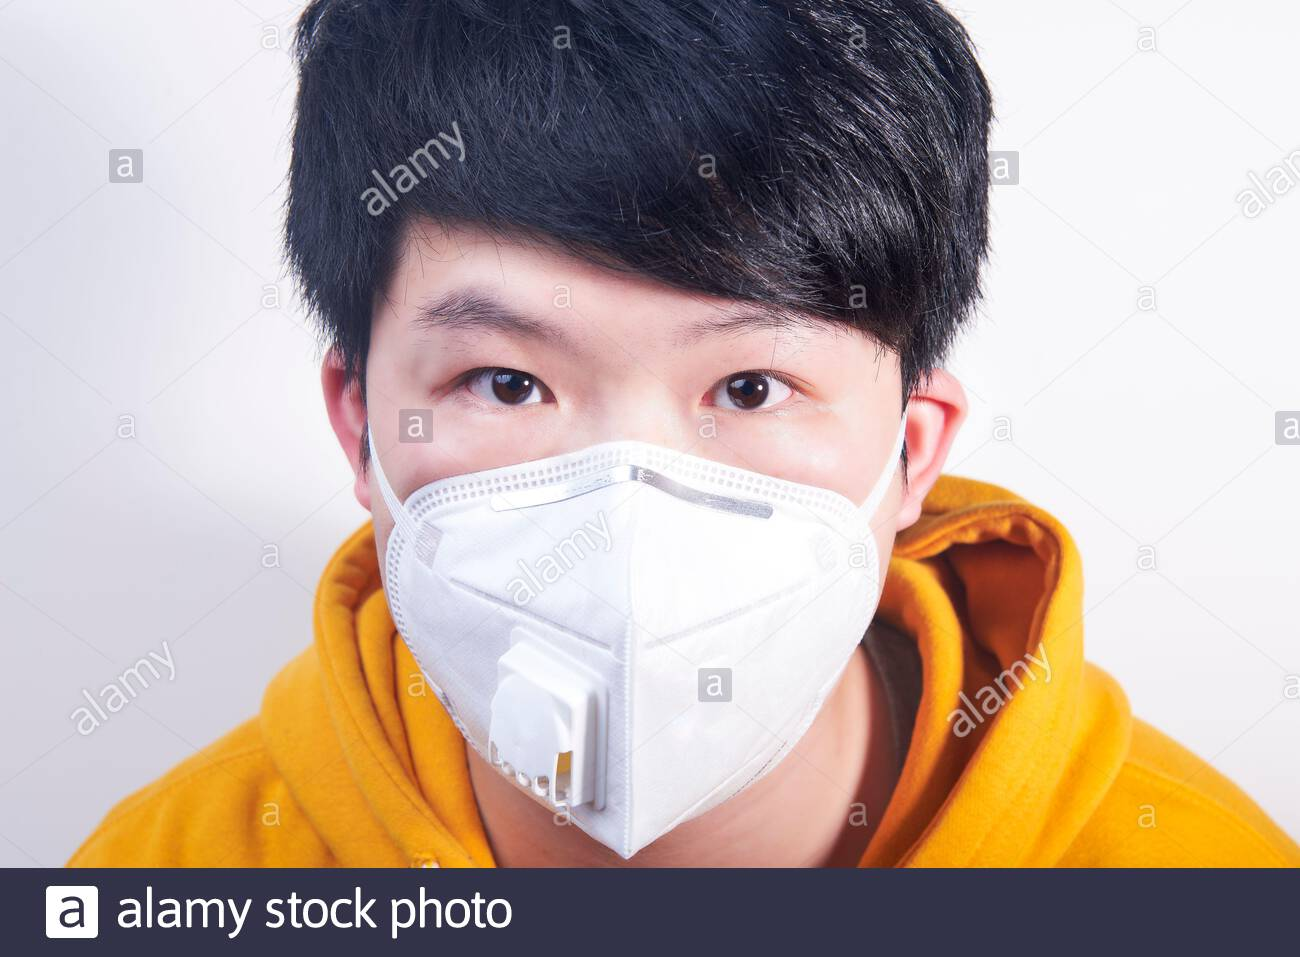n95: (364, 425, 882, 865)
